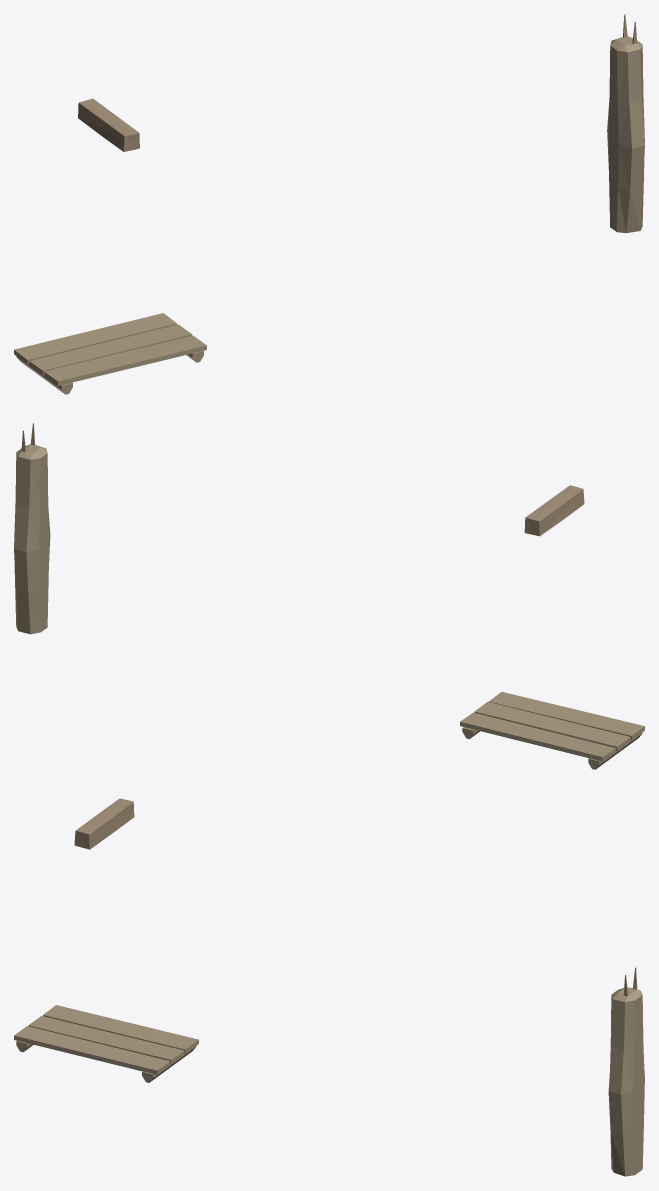
Rendered from WoodStuff.dae.
The picture shows the model from 3 angles, top to bottom: view 1: azimuth 30°, elevation 25°; view 2: azimuth 150°, elevation 25°; view 3: azimuth 330°, elevation 25°; orthographic projection. The views are drawn at different scales.
Parts seen in each view (by area): view 1: WoodPallet1, PiriComparison, WoodBlock; view 2: WoodPallet1, PiriComparison, WoodBlock; view 3: WoodPallet1, PiriComparison, WoodBlock.
Part boxes in pixels (bbox=[...]): WoodPallet1: bbox=[14, 313, 206, 394]; PiriComparison: bbox=[607, 14, 644, 233]; WoodBlock: bbox=[78, 98, 139, 151]; WoodPallet1: bbox=[460, 692, 644, 769]; PiriComparison: bbox=[14, 423, 50, 634]; WoodBlock: bbox=[524, 485, 584, 536]; WoodPallet1: bbox=[14, 1005, 198, 1082]; PiriComparison: bbox=[608, 967, 644, 1176]; WoodBlock: bbox=[74, 798, 134, 849].
Bounding box in the file's own units: 9.4 × 1.3 × 3.63.
